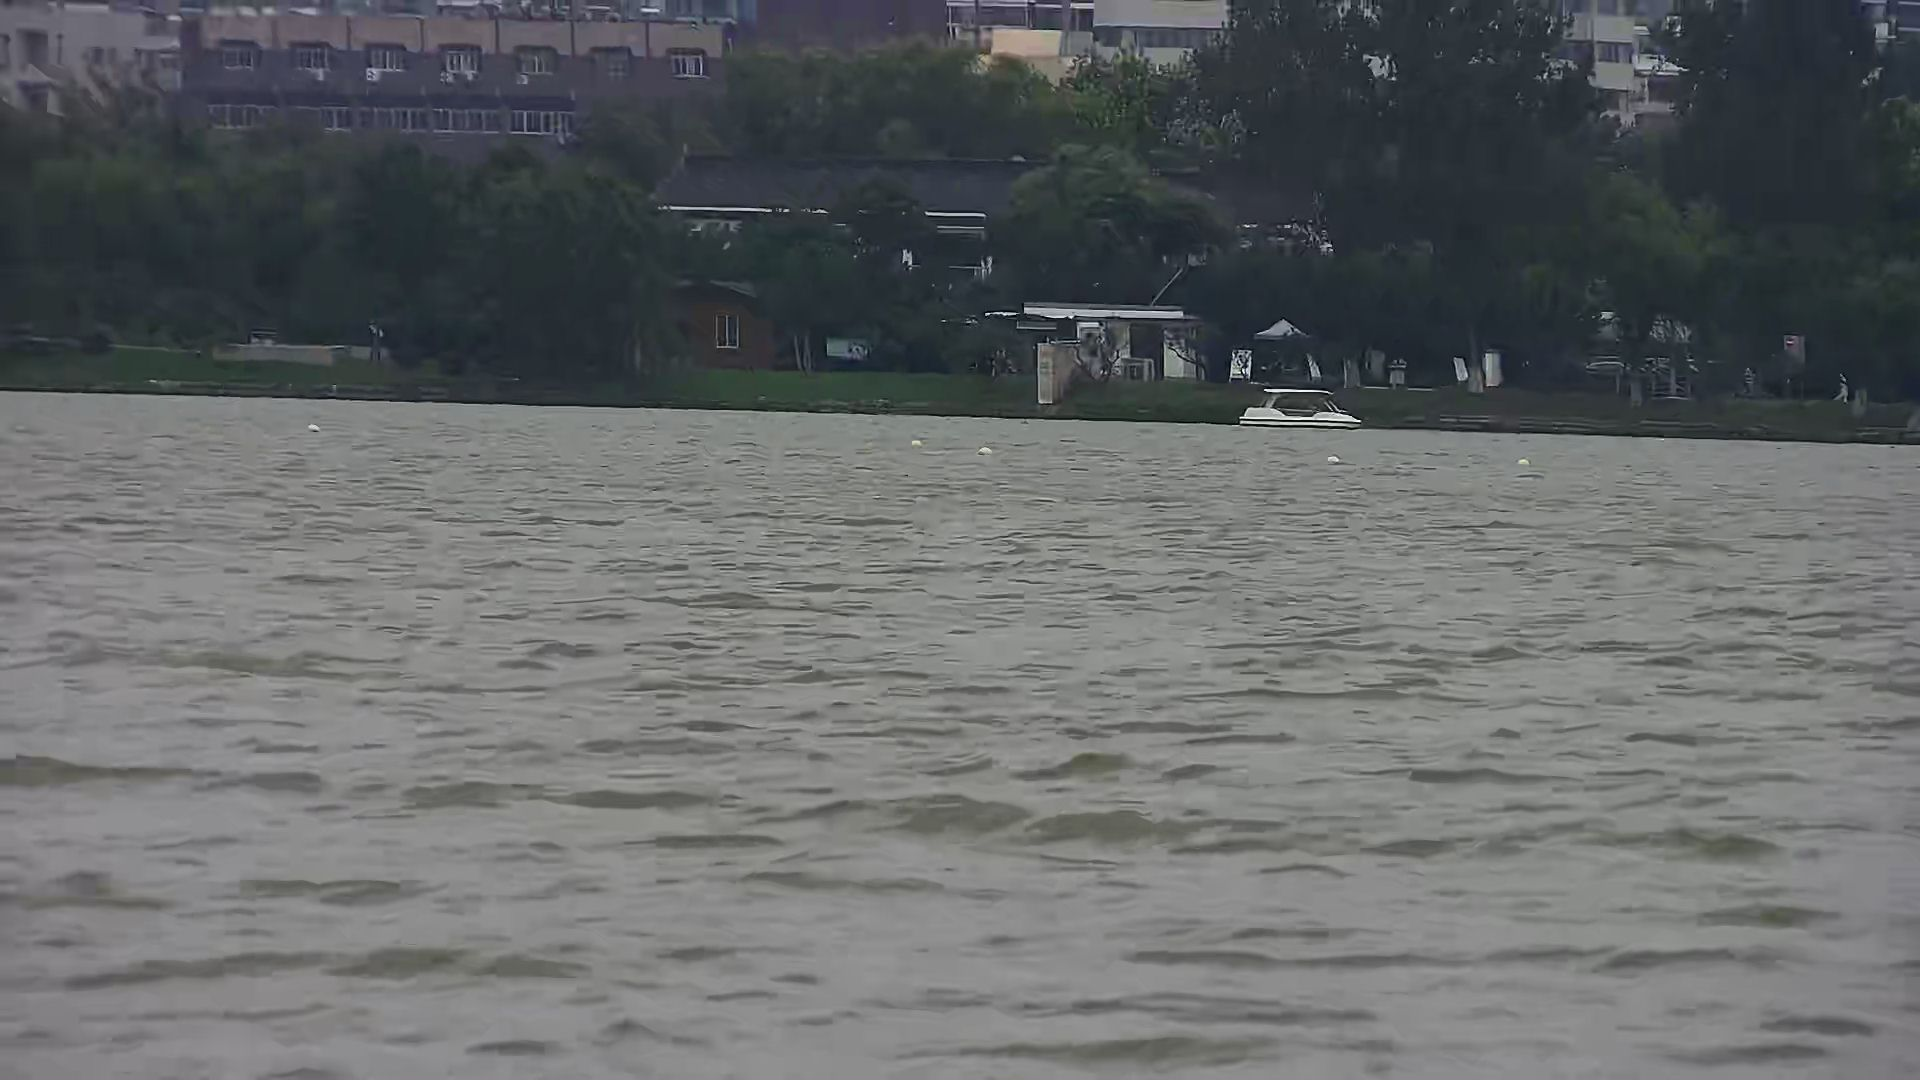boat: (1229, 384, 1370, 434)
